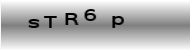6: (83, 8, 97, 21)
R: (63, 12, 79, 25)
T: (43, 15, 58, 29)
p: (110, 15, 125, 29)
s: (27, 18, 39, 28)
